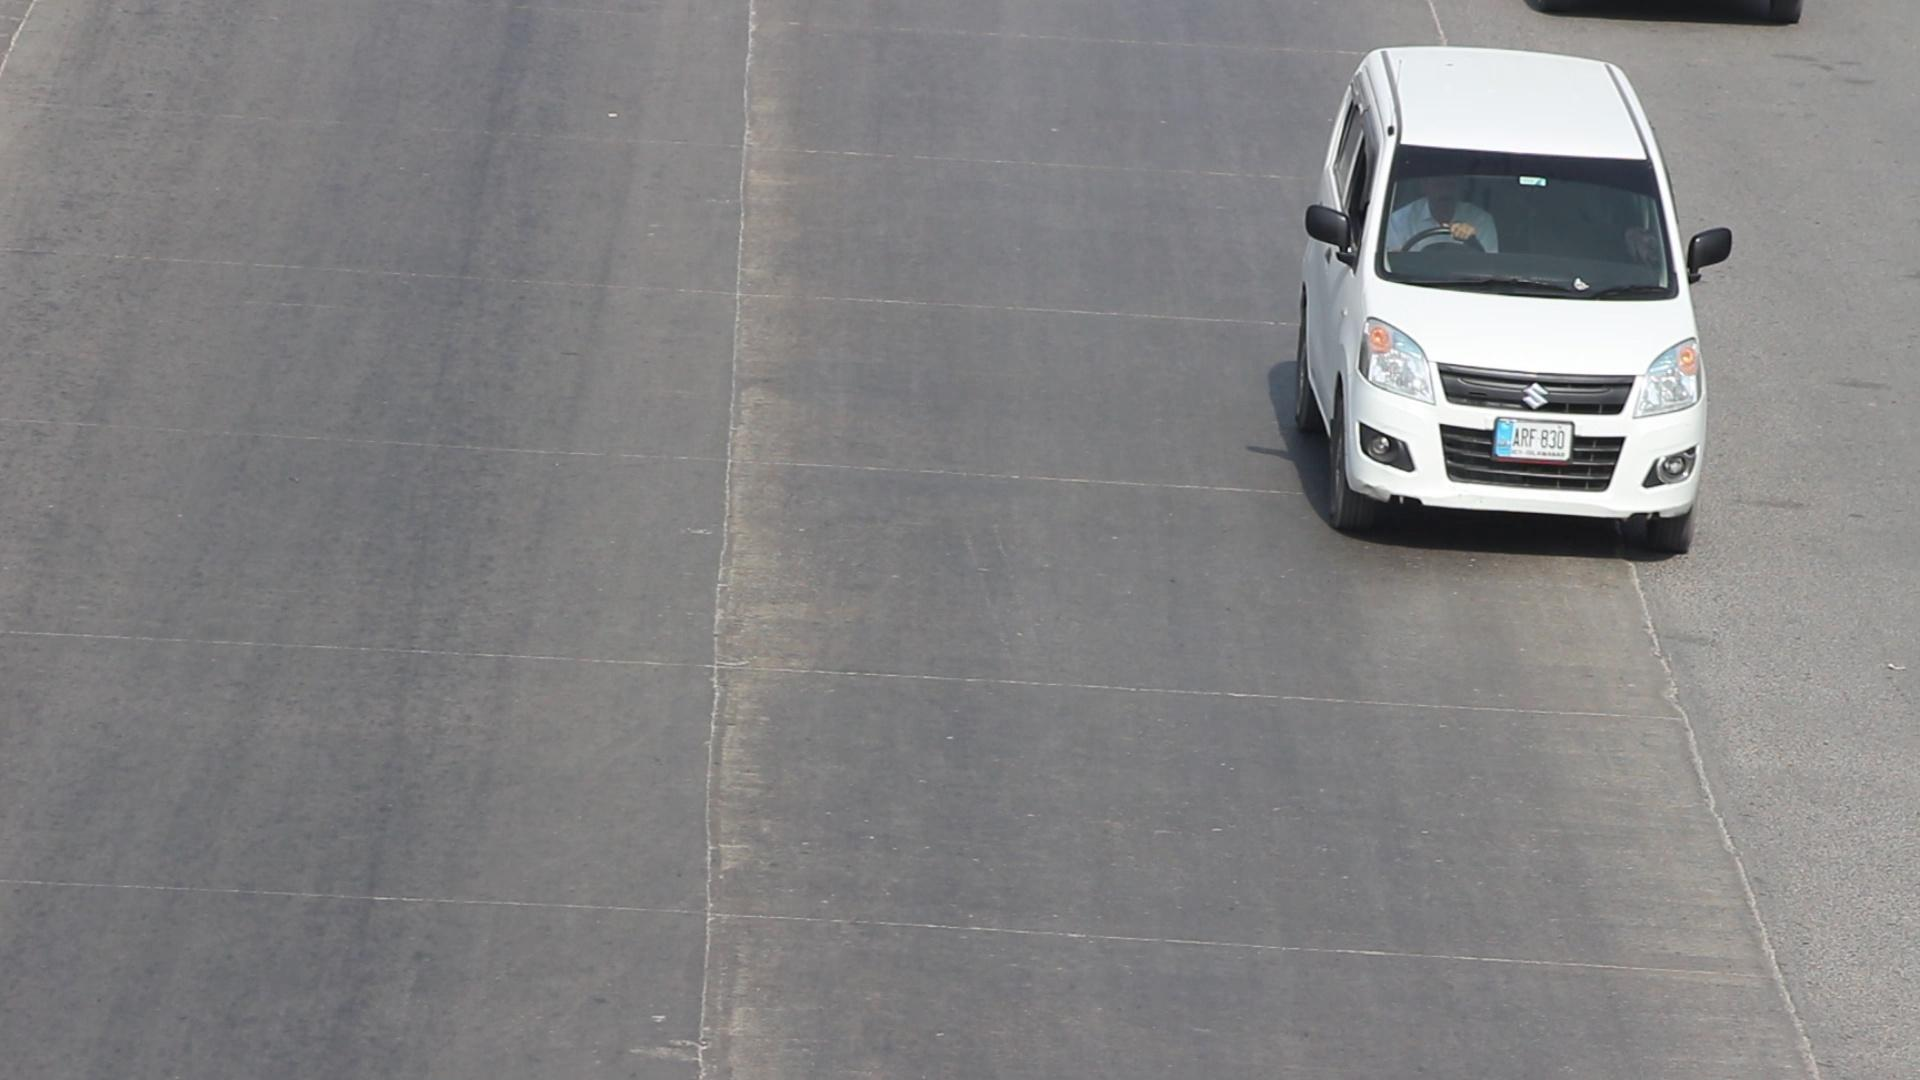windshield: (1370, 116, 1691, 307)
